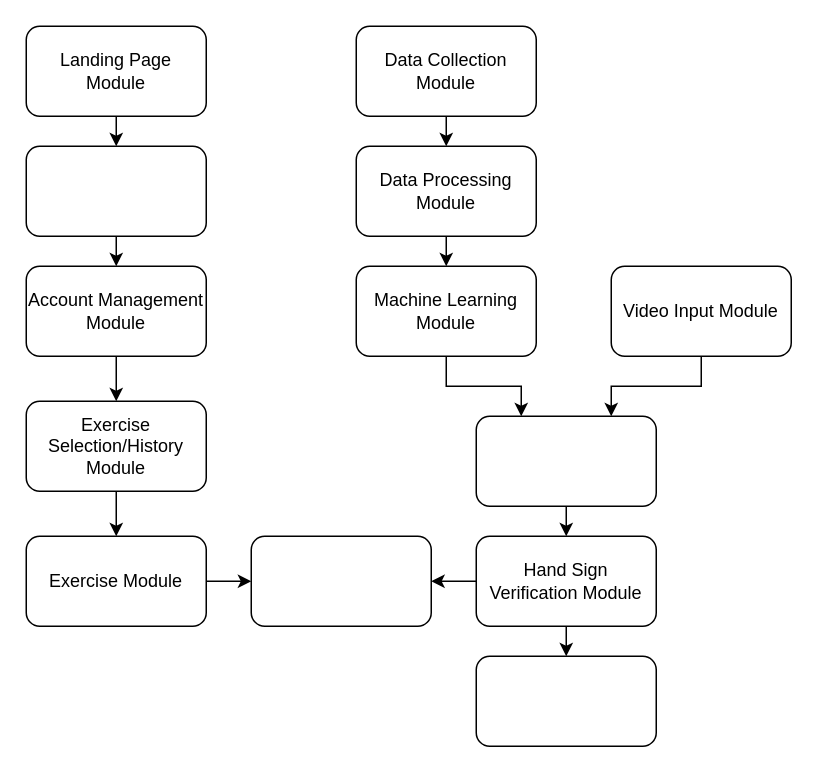
Image size: 818x773. Some labels were removed from this diagram. The shapes that lost their labels are listed below. From the top down, each one's centre as x and y in pixels, then its label:
(115,190): Login/Sign-Up Module
(565,460): Hand Sign Recognition Module
(340,580): Controller Module
(565,700): Testing and Verification Module
